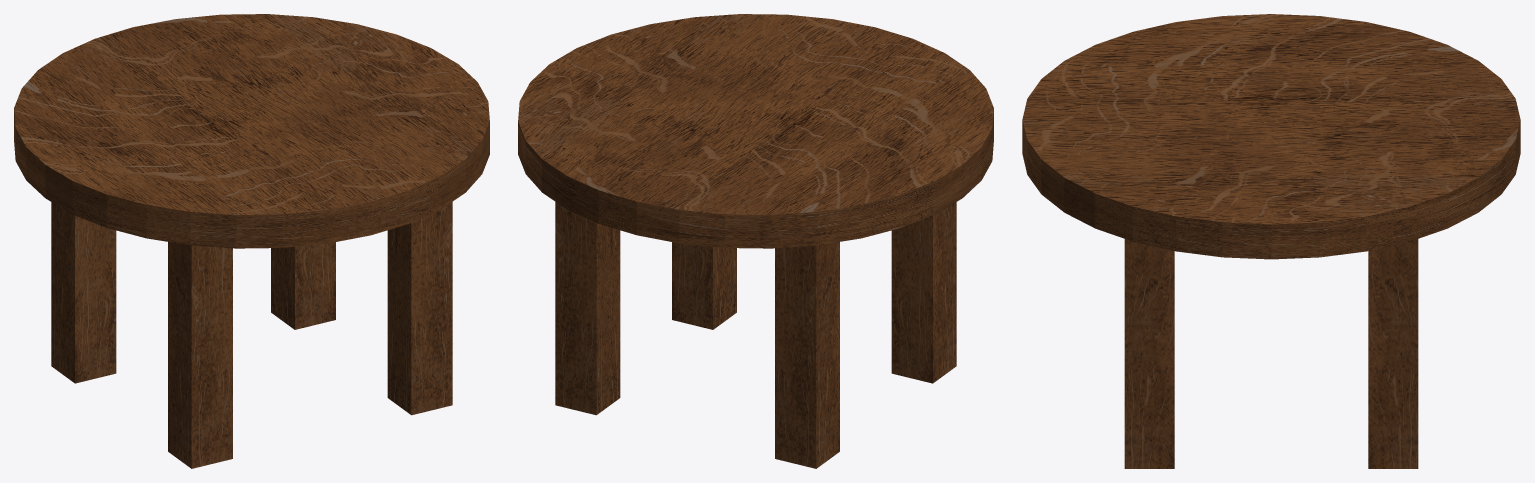
File: Table02.fbx
The picture shows the model from 3 angles, left to right: view 1: azimuth 30°, elevation 25°; view 2: azimuth 150°, elevation 25°; view 3: azimuth 270°, elevation 25°; orthographic projection. The views are drawn at different scales.
Visible parts, largest first — view 1: Table; view 2: Table; view 3: Table.
Boxes of the visible parts, <box> form: Table: <box>14,14,489,468</box>; Table: <box>518,14,993,468</box>; Table: <box>1022,14,1520,468</box>.
Bounding box in the file's own units: 200 × 126 × 200.
Materials: 2 (2 with a texture image).
